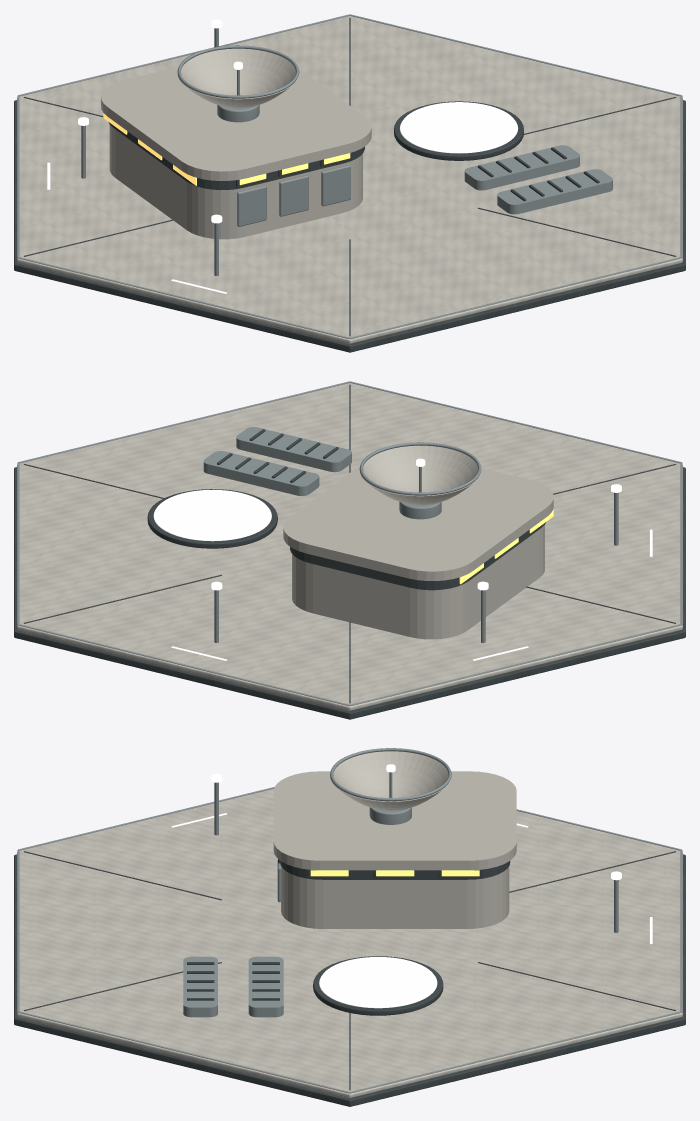
Rendered from crown-relay.ddd0551d9e28.glb.
3 views of the same model, one above another, from view 1: azimuth 30°, elevation 25°; view 2: azimuth 150°, elevation 25°; view 3: azimuth 270°, elevation 25° (orthographic).
Visible parts, largest first — view 1: MF_Roof__structure_ivory_ceramic, MF_Roof_Crown__structure_ivory_ceramic, MF_Roof_Crown__brushed_titanium, MF_Roof__structure_graphite_joints, MF_Roof__brushed_titanium, MF_Roof_Crown__identity_roof_inset, MF_Roof_Crown__structure_graphite_joints, MF_Roof_Crown__identity_roof_ring, MF_Roof_Crown__practical_warm_window_glass; view 2: MF_Roof__structure_ivory_ceramic, MF_Roof_Crown__structure_ivory_ceramic, MF_Roof__structure_graphite_joints, MF_Roof_Crown__brushed_titanium, MF_Roof__brushed_titanium, MF_Roof_Crown__structure_graphite_joints, MF_Roof_Crown__identity_roof_inset, MF_Roof_Crown__identity_roof_ring; view 3: MF_Roof__structure_ivory_ceramic, MF_Roof_Crown__structure_ivory_ceramic, MF_Roof__structure_graphite_joints, MF_Roof_Crown__brushed_titanium, MF_Roof_Crown__identity_roof_inset, MF_Roof_Crown__structure_graphite_joints, MF_Roof__brushed_titanium, MF_Roof_Crown__identity_roof_ring, MF_Roof_Crown__practical_warm_window_glass.
Part boxes in pixels (x1,y1,x2,y2): MF_Roof__structure_ivory_ceramic: (17,16,682,343); MF_Roof_Crown__structure_ivory_ceramic: (101,48,371,239); MF_Roof_Crown__brushed_titanium: (177,45,612,226); MF_Roof__structure_graphite_joints: (14,17,685,352); MF_Roof__brushed_titanium: (17,14,682,338); MF_Roof_Crown__identity_roof_inset: (399,104,518,153); MF_Roof_Crown__structure_graphite_joints: (108,101,599,201); MF_Roof_Crown__identity_roof_ring: (400,102,517,152); MF_Roof_Crown__practical_warm_window_glass: (103,113,350,185); MF_Roof__structure_ivory_ceramic: (17,383,682,710); MF_Roof_Crown__structure_ivory_ceramic: (283,445,553,639); MF_Roof__structure_graphite_joints: (14,384,685,719); MF_Roof_Crown__brushed_titanium: (203,427,481,519); MF_Roof__brushed_titanium: (17,381,682,705); MF_Roof_Crown__structure_graphite_joints: (147,429,545,590); MF_Roof_Crown__identity_roof_inset: (153,492,271,541); MF_Roof_Crown__identity_roof_ring: (154,489,270,540); MF_Roof__structure_ivory_ceramic: (17,788,682,1098); MF_Roof_Crown__structure_ivory_ceramic: (273,751,516,928); MF_Roof__structure_graphite_joints: (14,851,685,1106); MF_Roof_Crown__brushed_titanium: (183,748,451,1017); MF_Roof_Crown__identity_roof_inset: (319,959,437,1008); MF_Roof_Crown__structure_graphite_joints: (187,859,510,1015); MF_Roof__brushed_titanium: (17,782,682,1093); MF_Roof_Crown__identity_roof_ring: (320,957,436,1007); MF_Roof_Crown__practical_warm_window_glass: (277,858,479,876).
Bounding box in the file's own units: 36.67 × 6.96 × 31.78.
8 materials, 2 textured.
